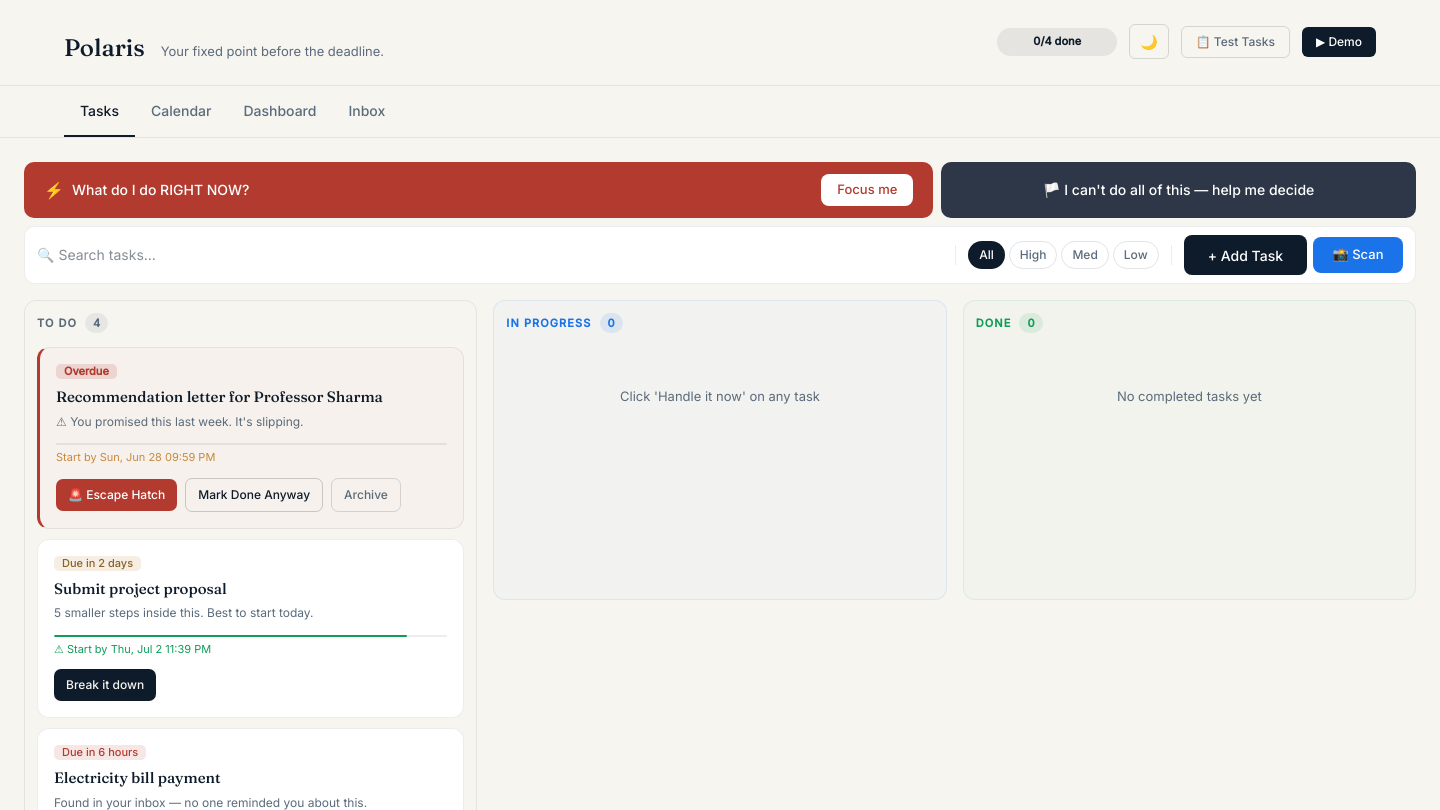
Test: Parse with AI Button › Successful parse fills modal fields
Click the button "+ Add Task" at (1245, 254), box [1184, 234, 1307, 274]
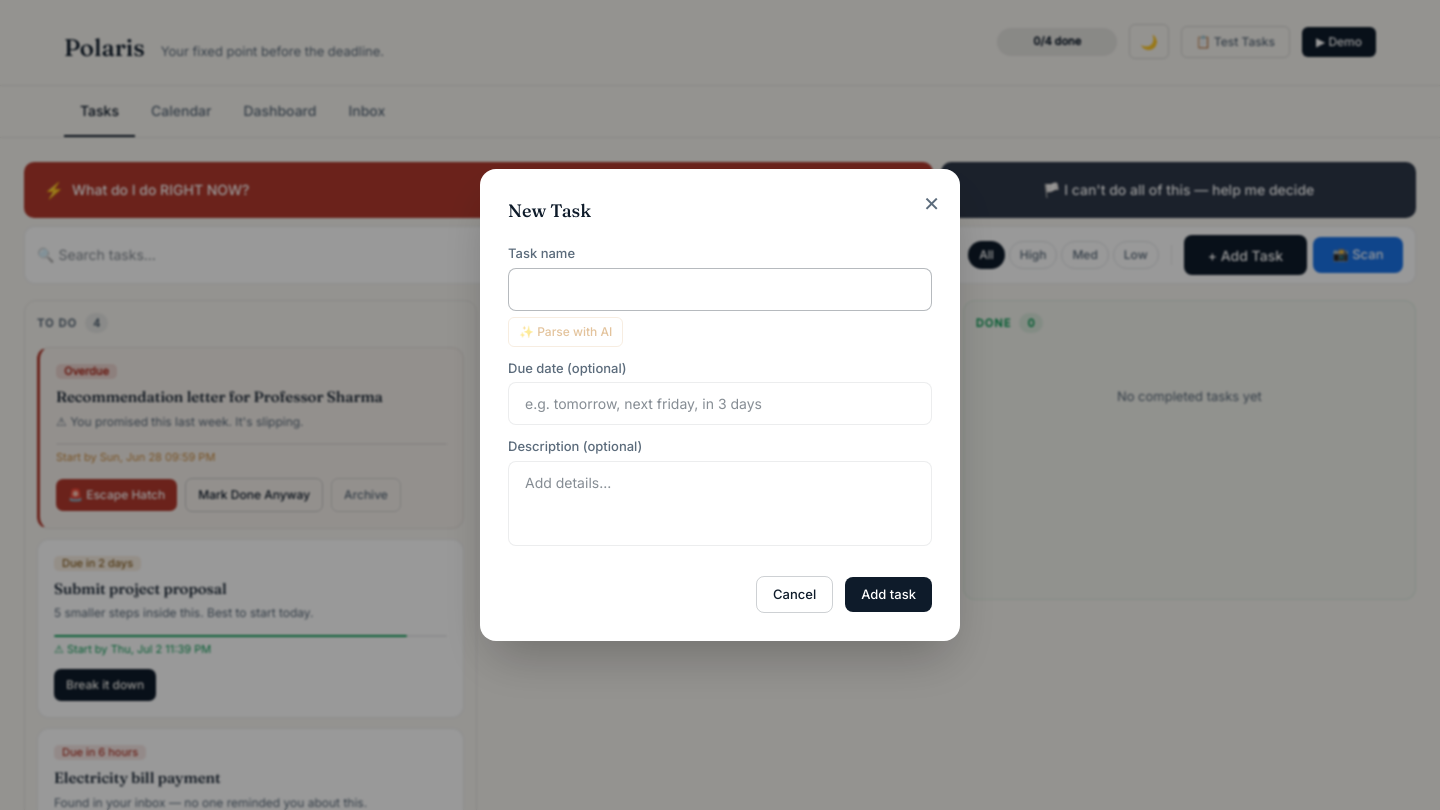
Type "pay bill before friday" into the 1st field at (720, 289), box [508, 268, 932, 310]
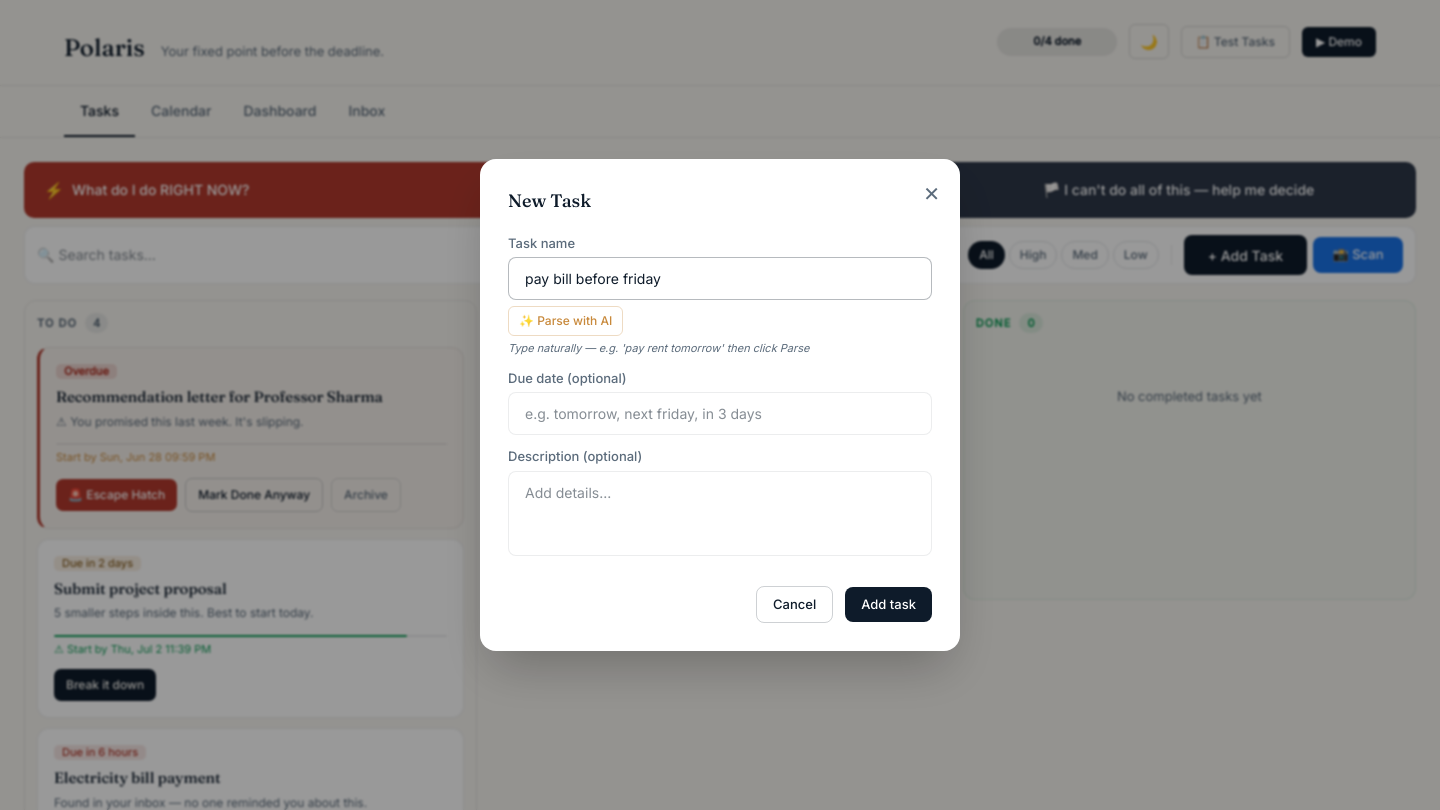
Click the button "✨ Parse with AI" at (566, 321), box [508, 306, 623, 336]
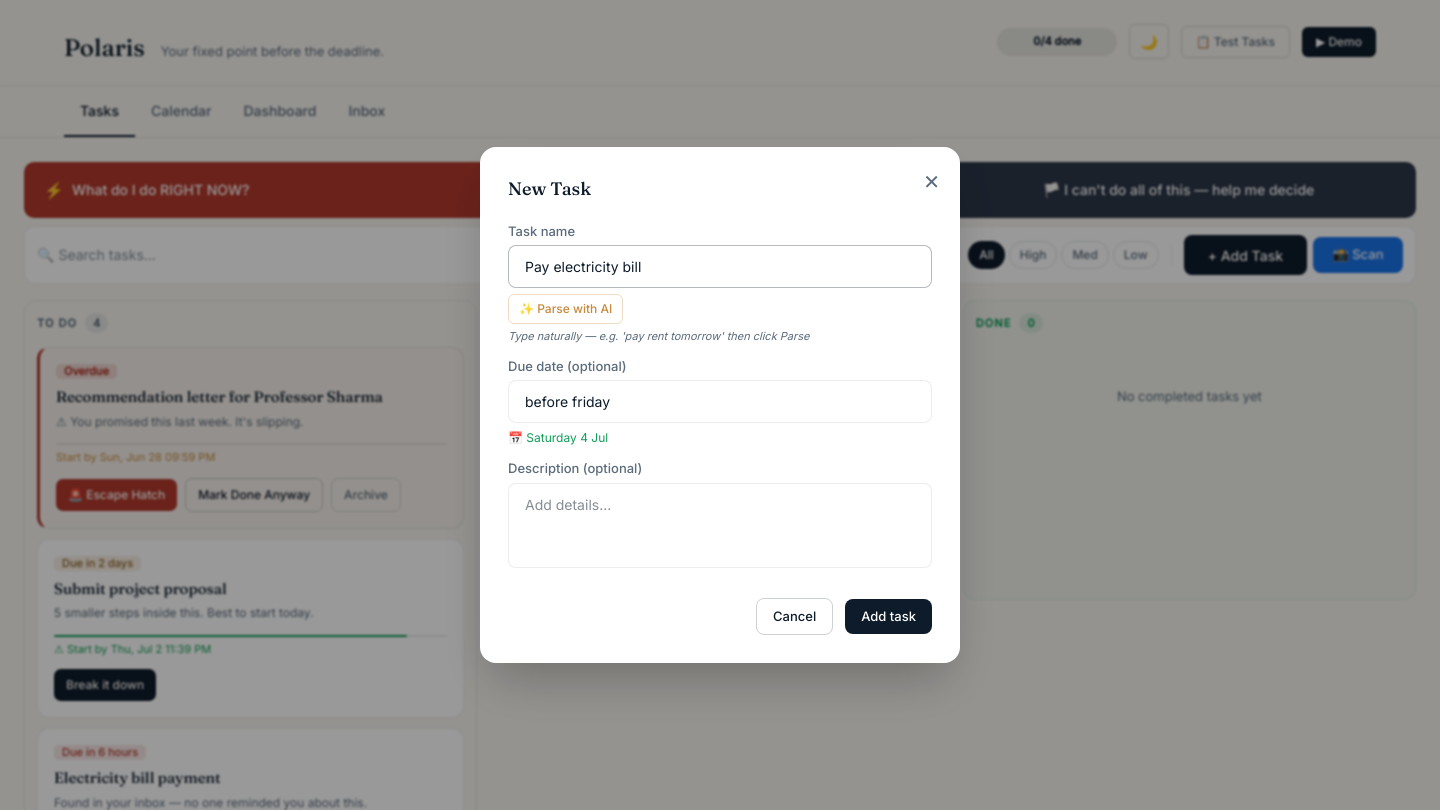
Now the button "✨ Parse with AI" is shown, box [508, 294, 623, 324]
Now the field below "Task name" holds "Pay electricity bill", box [508, 245, 932, 288]
Now the field below "Due date (optional)" holds "before friday", box [508, 380, 932, 423]
